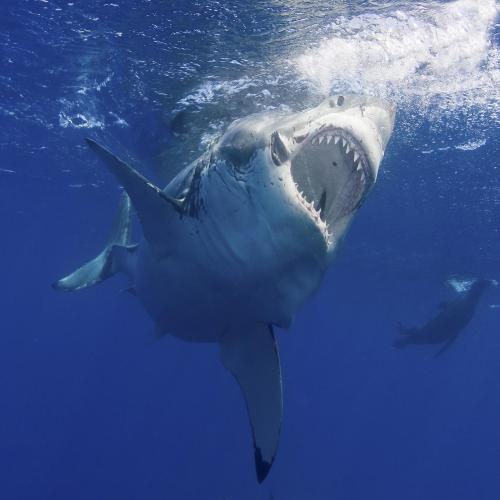shark-endangered: (112, 75, 400, 351)
